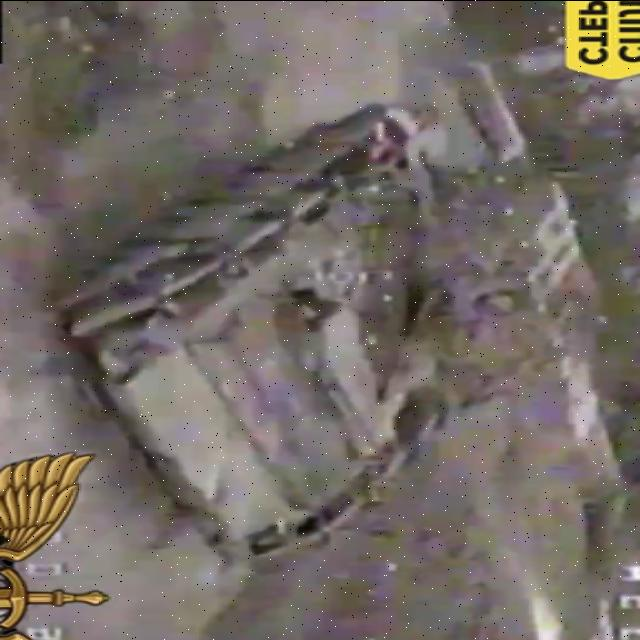APC-IFV: (51, 98, 600, 566)
